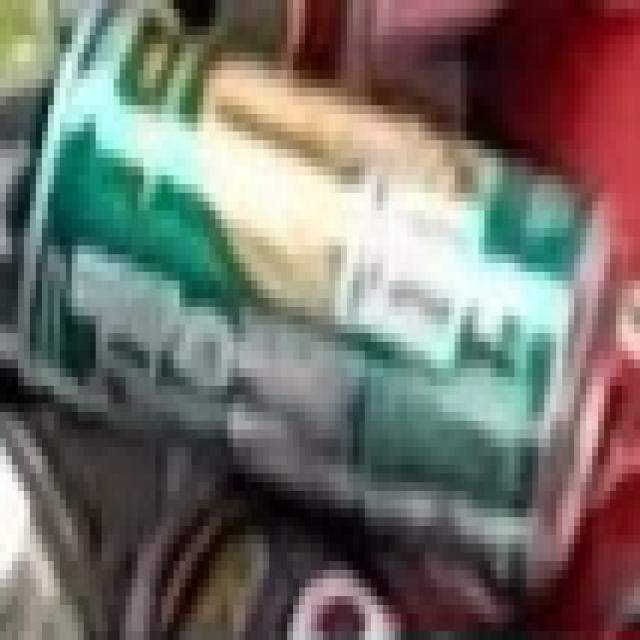can: (0, 0, 634, 605)
